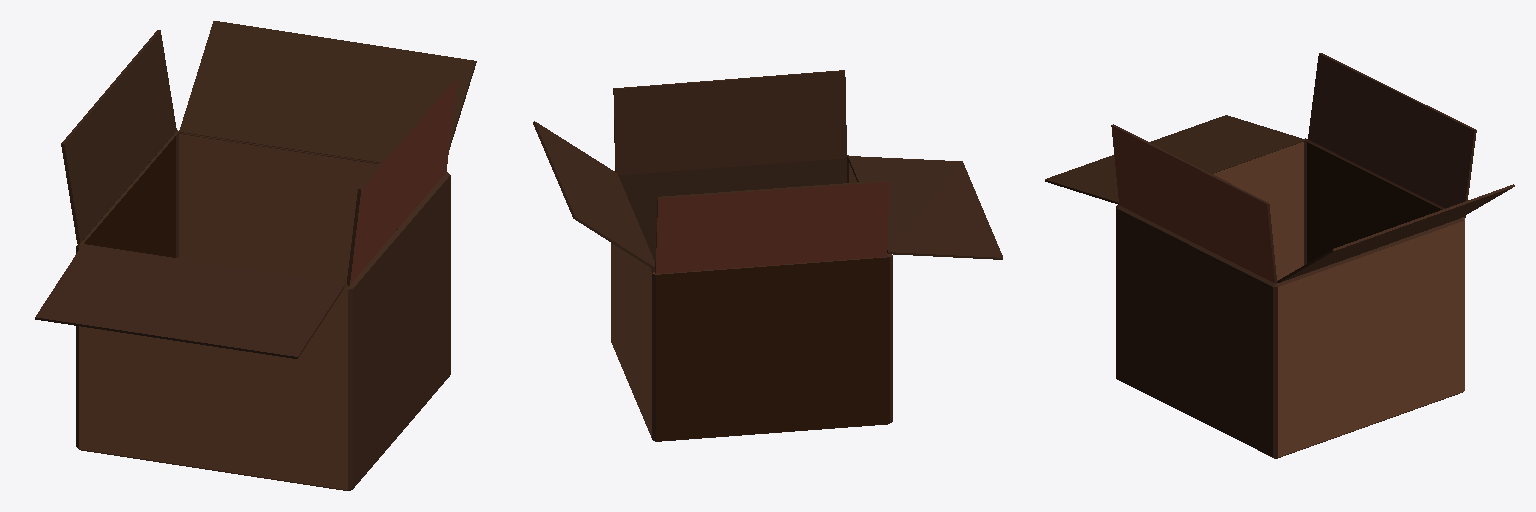
robot.urdf — carton:
<?xml version="1.0"?>
<robot name="carton">
  <link name="base_link">
    <visual>
      <origin xyz="0.4 -0.1 0" rpy="0 0 0.7" />
      <geometry>
        <mesh filename="package://ur_description/meshes/carton.dae"/>
      </geometry>
    </visual>
    <collision>
      <origin xyz="0.4 -0.1 0" rpy="0 0 0.7" />
      <geometry>
        <mesh filename="package://ur_description/meshes/carton.dae"/>
      </geometry>
    </collision>
  </link>

  <joint name="j_decor_one" type="fixed">
    <parent link="base_link"/>
    <child link="l_decor_one"/>
    <origin rpy="0 0 0" xyz="0 0 0"/>
  </joint>

  <link name="l_decor_one">
    <visual>
      <origin xyz="0.4 -0.1 0" rpy="0 0 0.7" />
      <geometry>
        <mesh filename="package://ur_description/meshes/carton.dae"/>
      </geometry>
    </visual>
    <collision>
      <origin xyz="0.4 -0.1 0" rpy="0 0 0.7" />
      <geometry>
        <mesh filename="package://ur_description/meshes/carton.stl"/>
      </geometry>
    </collision>
  </link>
</robot>

--- What the picture shows (computed from the rendered views, not written in the file) ---
Views: 3 orthographic renders of the robot side by side, from view 1: azimuth 30°, elevation 25°; view 2: azimuth 150°, elevation 25°; view 3: azimuth 270°, elevation 25°.
Model carton with 2 links and 1 joints (1 fixed), rooted at base_link, posed all joints at 0.
Links seen in each view (by area): view 1: base_link; view 2: base_link; view 3: base_link.
Link boxes in pixels (<box>): base_link: <box>35,21,476,490</box>; base_link: <box>533,70,1002,441</box>; base_link: <box>1045,53,1514,458</box>.
Size in the robot's own frame: 0.5247 by 0.4976 by 0.3014 metres.
2 mesh visuals loaded from 1 distinct referenced files (1 Collada DAE).
